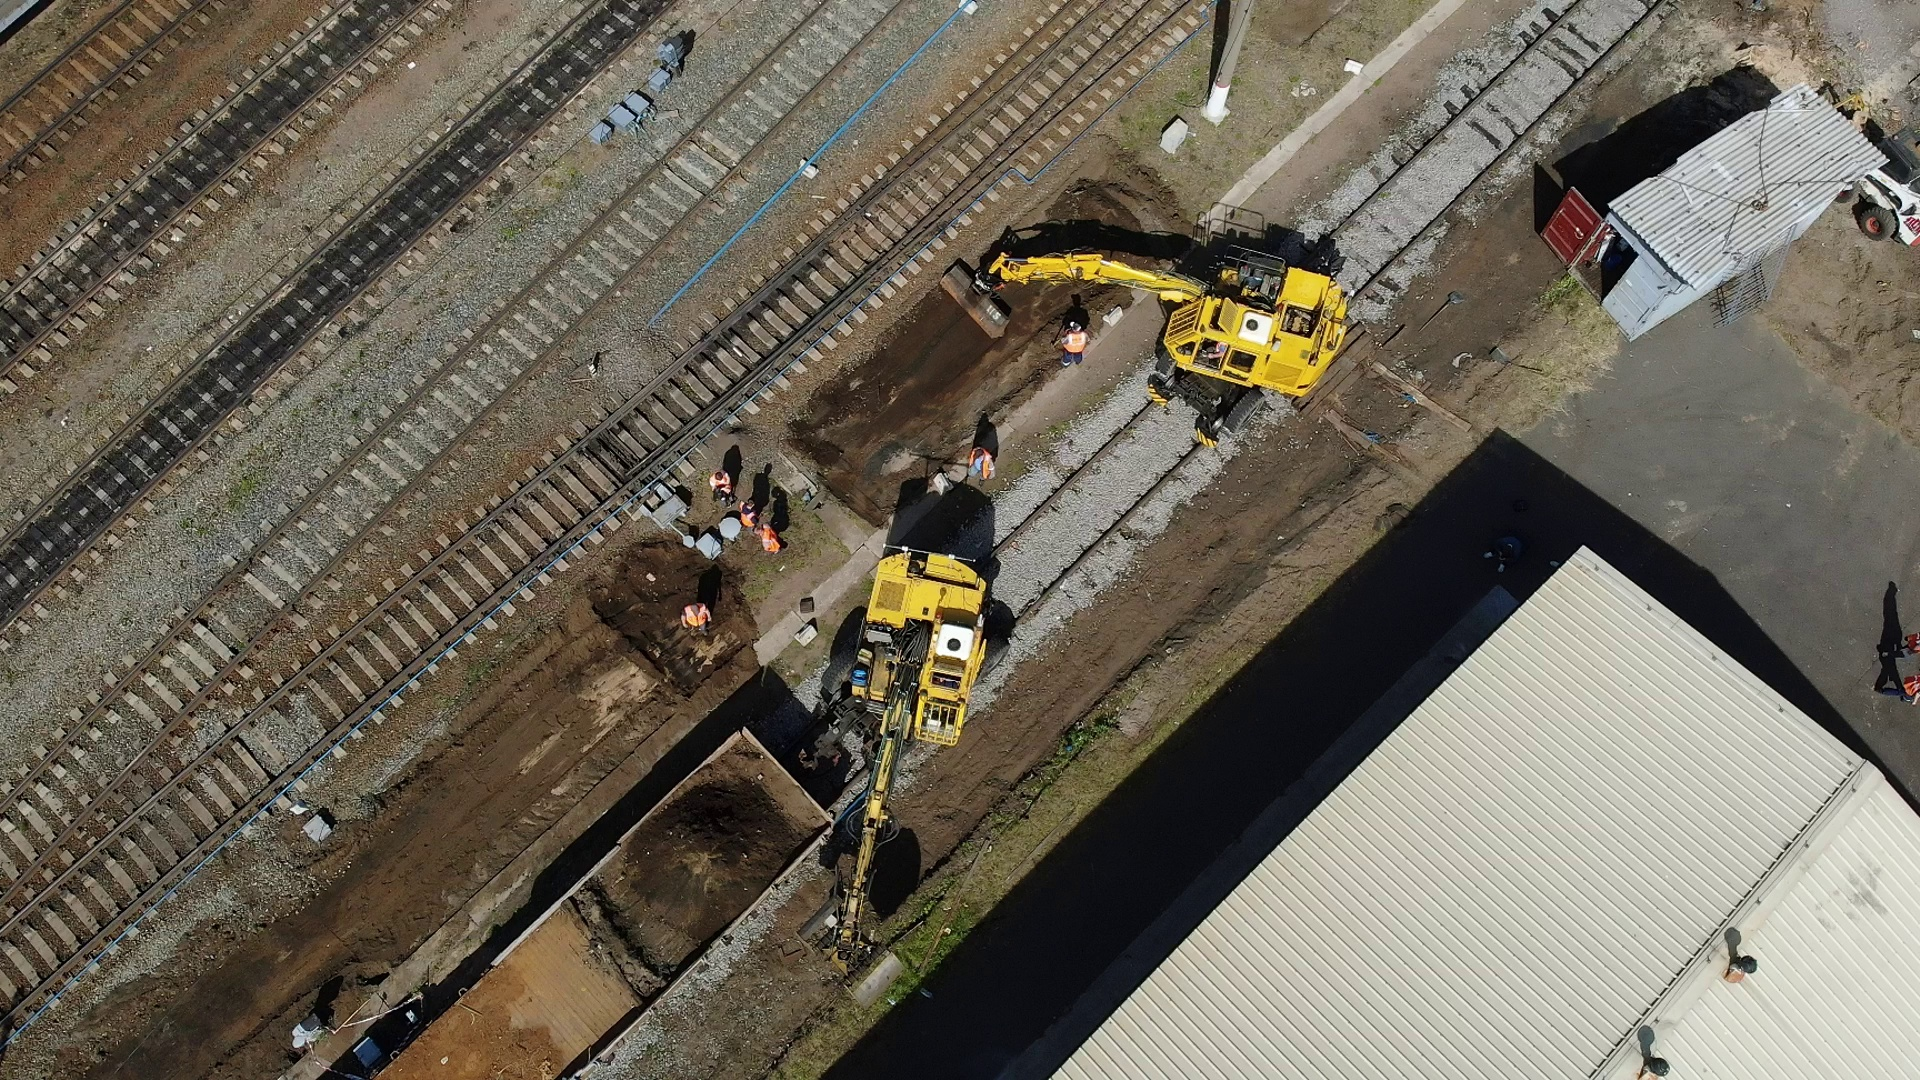kjtv: (1077, 237, 1348, 429), (816, 547, 1004, 749)
